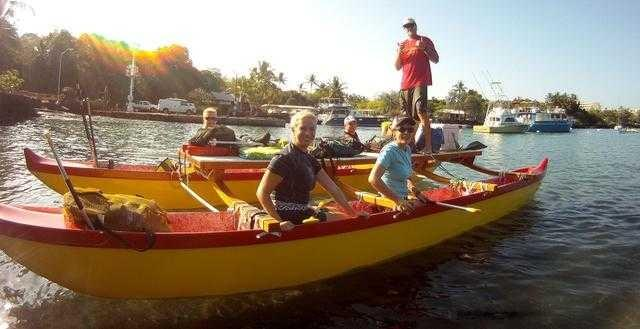kayak: (0, 152, 557, 303), (23, 145, 265, 211), (415, 134, 487, 167), (524, 108, 574, 133), (485, 106, 528, 133)
